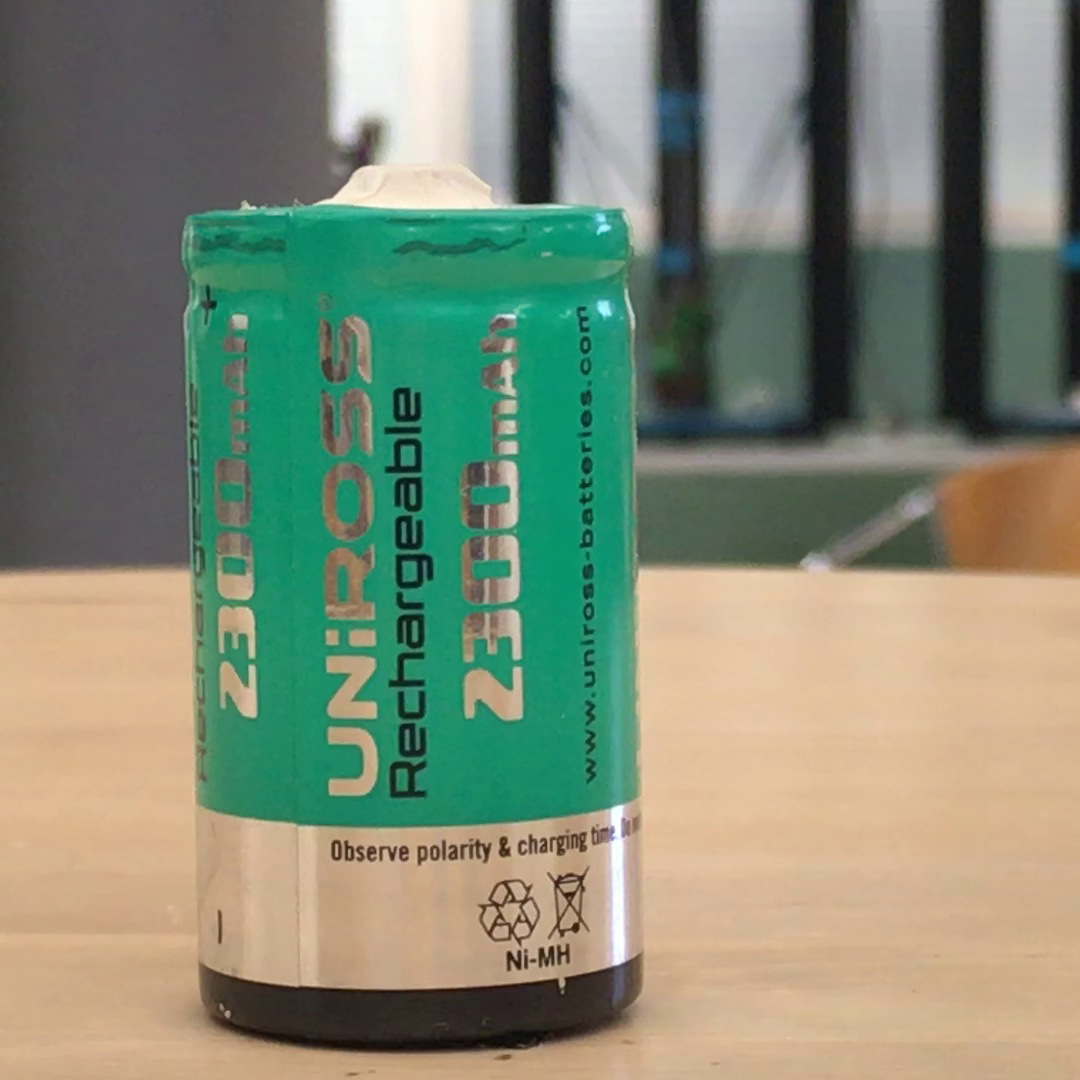keyword: (496, 933, 580, 982)
